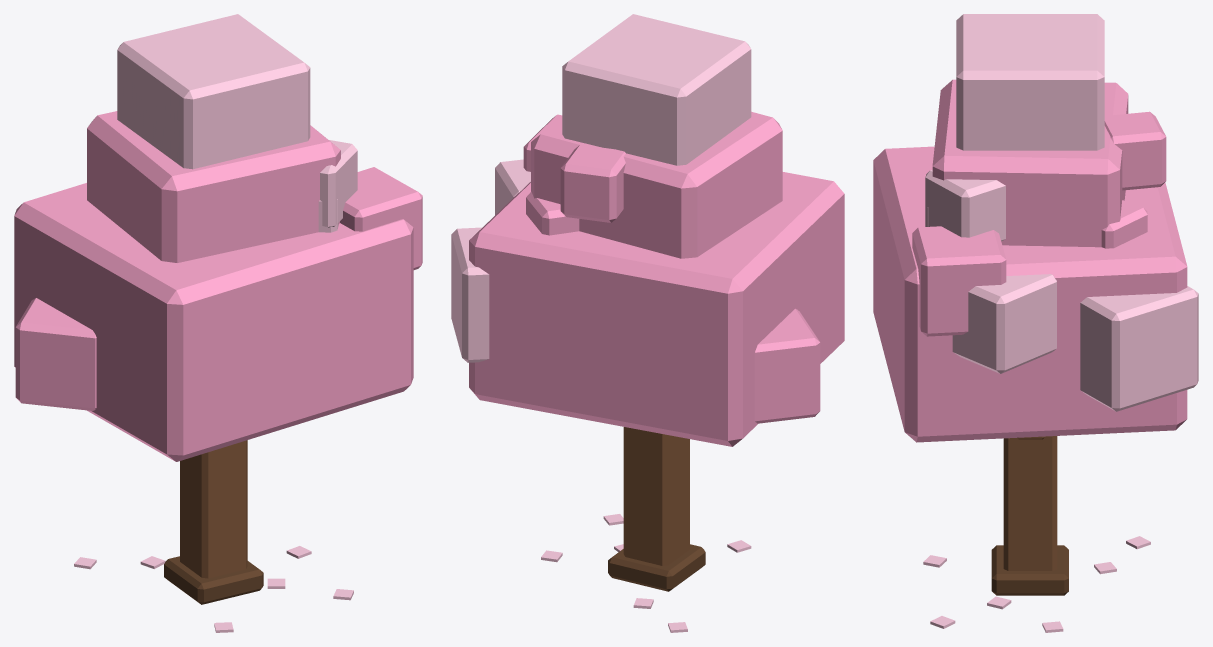
Rendered from CherryTree.fbx.
The picture shows the model from 3 angles, left to right: view 1: azimuth 30°, elevation 25°; view 2: azimuth 150°, elevation 25°; view 3: azimuth 270°, elevation 25°; orthographic projection. The views are drawn at different scales.
Parts seen in each view (by area): view 1: CherryTree_Blossom, CherryTree_BlossomLight, CherryTree_Bark, CherryTree_BarkDark; view 2: CherryTree_Blossom, CherryTree_BlossomLight, CherryTree_Bark, CherryTree_BarkDark; view 3: CherryTree_Blossom, CherryTree_BlossomLight, CherryTree_Bark, CherryTree_BarkDark.
Part boxes in pixels (bbox=[...]): CherryTree_Blossom: bbox=[14, 111, 422, 461]; CherryTree_BlossomLight: bbox=[74, 14, 357, 632]; CherryTree_Bark: bbox=[180, 440, 247, 578]; CherryTree_BarkDark: bbox=[164, 556, 263, 604]; CherryTree_Blossom: bbox=[469, 111, 844, 446]; CherryTree_BlossomLight: bbox=[451, 14, 751, 632]; CherryTree_Bark: bbox=[623, 427, 689, 565]; CherryTree_BarkDark: bbox=[608, 544, 705, 591]; CherryTree_Blossom: bbox=[873, 79, 1187, 442]; CherryTree_BlossomLight: bbox=[923, 14, 1198, 632]; CherryTree_Bark: bbox=[1003, 436, 1057, 570]; CherryTree_BarkDark: bbox=[991, 545, 1068, 595].
Bounding box in the file's own units: 704 × 1000 × 547.
